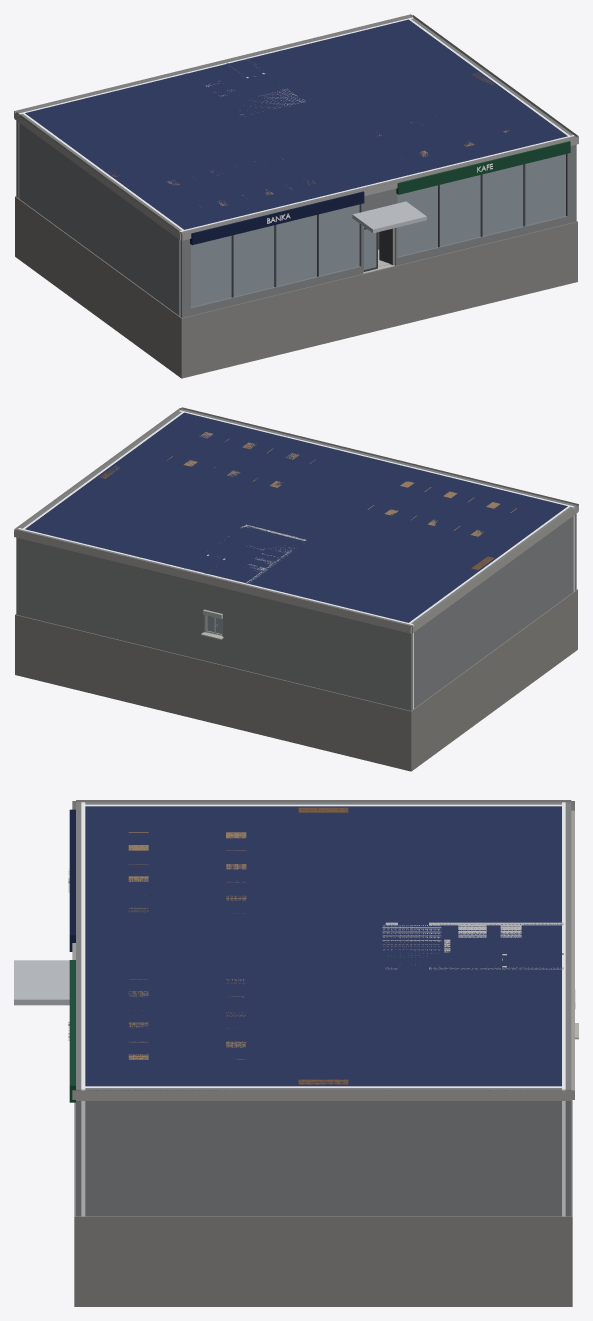
The model's file is bina_13_ic.glb.
3 renders of one model, top to bottom at view 1: azimuth 30°, elevation 25°; view 2: azimuth 150°, elevation 25°; view 3: azimuth 270°, elevation 25°, orthographic. The views are drawn at different scales.
Visible parts, largest first — view 1: P13_ic; view 2: P13_ic; view 3: P13_ic.
Boxes of the visible parts, x1,y1,x2,y2 form: P13_ic: (14,14,578,378); P13_ic: (14,407,578,771); P13_ic: (14,800,578,1306).
Size of the model in its own units: 22.24 by 7.72 by 18.25.
